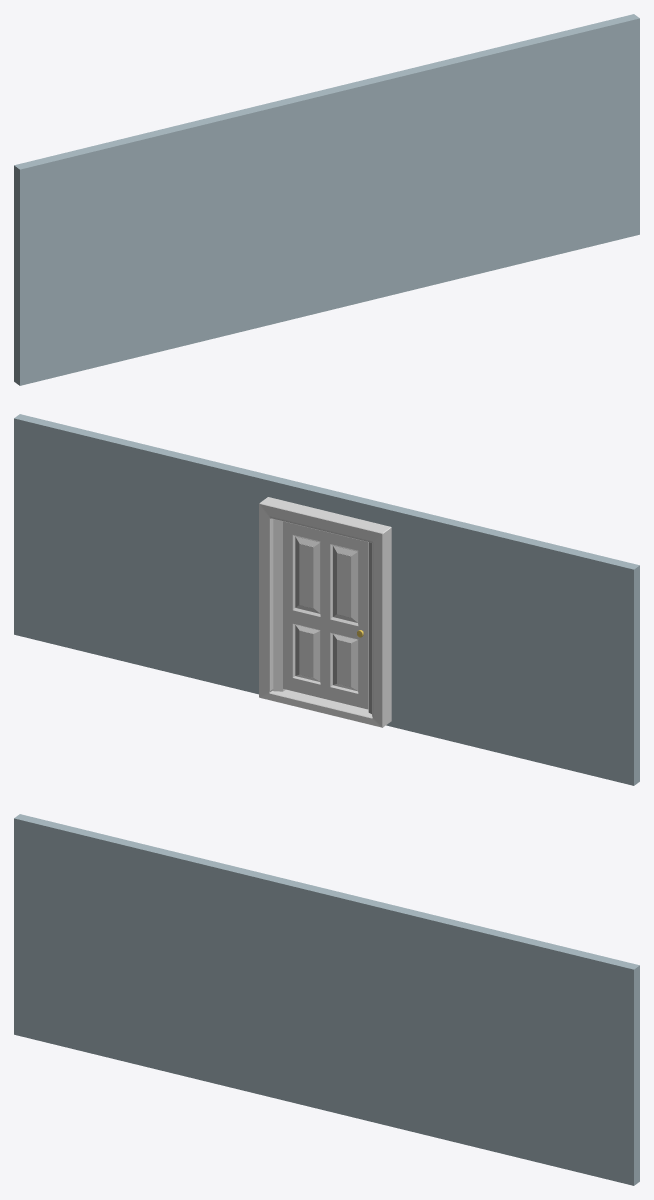
The model's file is wall_back.gltf.
3 views of the same model, one above another, from view 1: azimuth 30°, elevation 25°; view 2: azimuth 150°, elevation 25°; view 3: azimuth 330°, elevation 25° (orthographic).
Parts seen in each view (by area): view 1: wall.001; view 2: wall.001; view 3: wall.001.
Boxes of the visible parts, box(x1,y1,x2,y2) form: wall.001: box(14, 14, 639, 385); wall.001: box(14, 414, 639, 785); wall.001: box(14, 814, 639, 1185).
Bounding box in the file's own units: 120 × 40 × 4.96.
